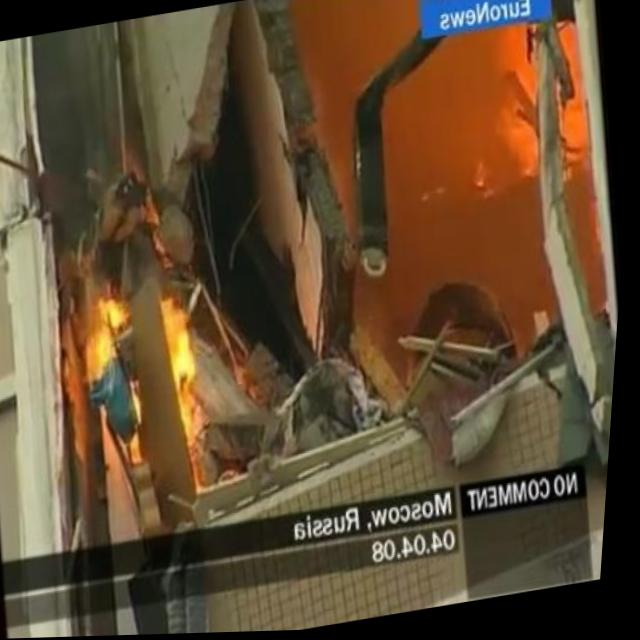fire: (68, 224, 231, 488)
